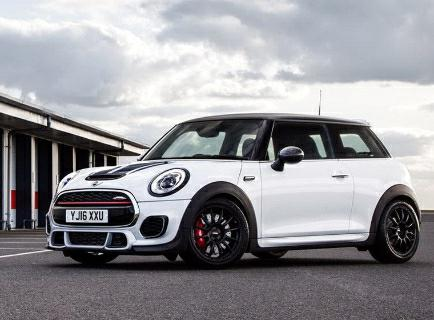MINI-JCW: (32, 114, 434, 270)
